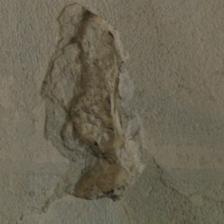Crack: (35, 3, 142, 210)
